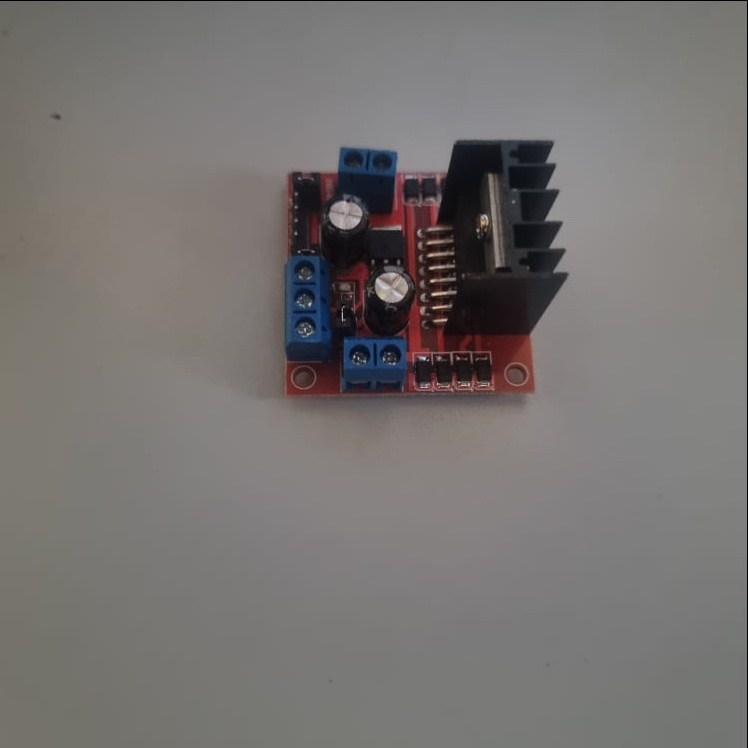MOTOR: (281, 135, 570, 399)
